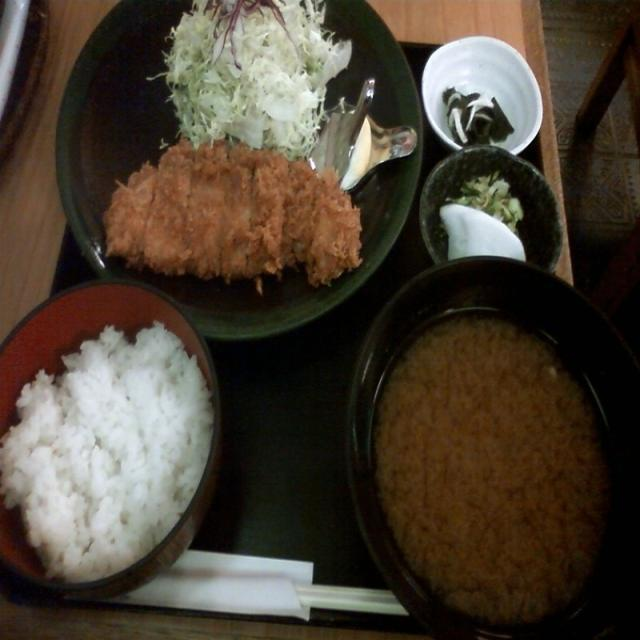Rice: (0, 326, 212, 592)
